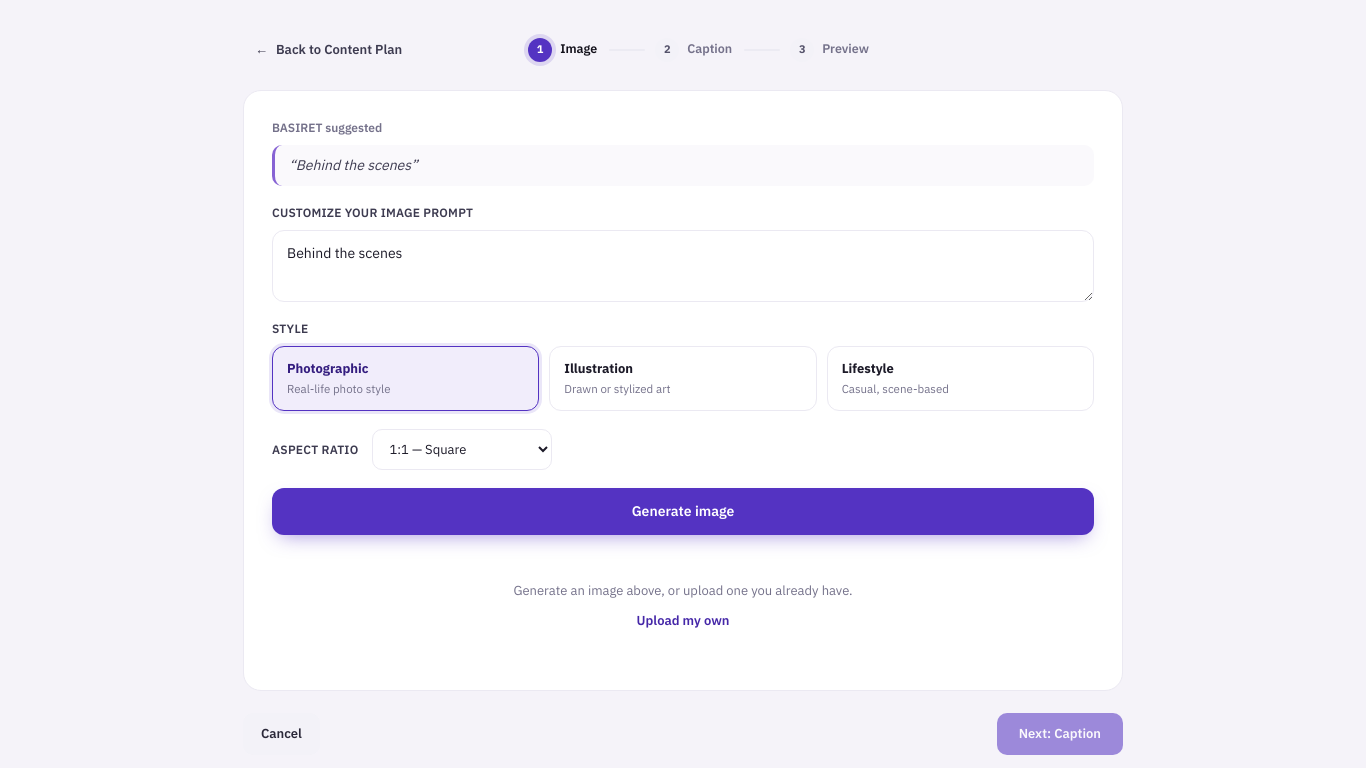
Scenario: WizardCaptionStep — Generate gating › Generate is disabled when no image exists (caption step is unreachable without an image, but the guard hint renders if forced)
Click the button with test id "image-generate" at (683, 512), box [272,488,1094,535]
(page scrolled)
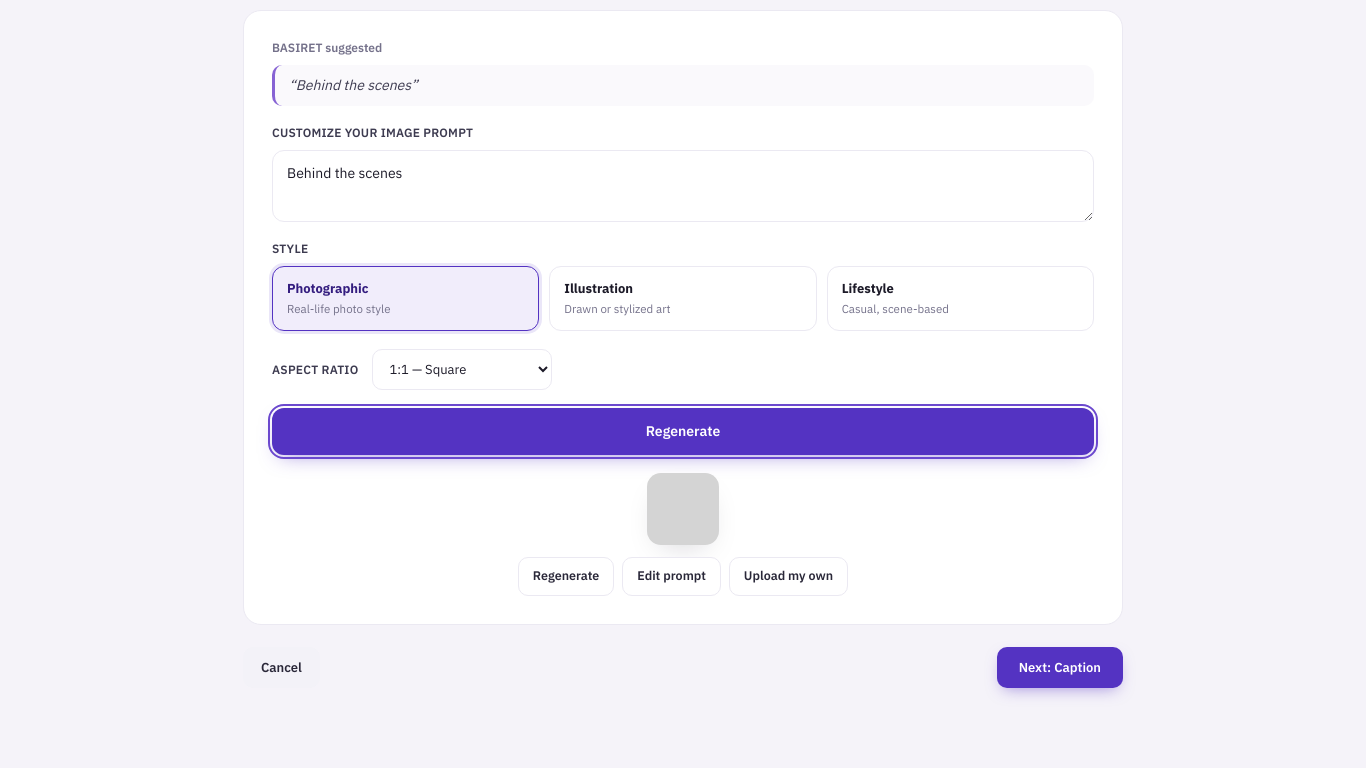
Click the button with test id "wizard-next" at (1060, 668), box [997,647,1123,688]
(page scrolled)
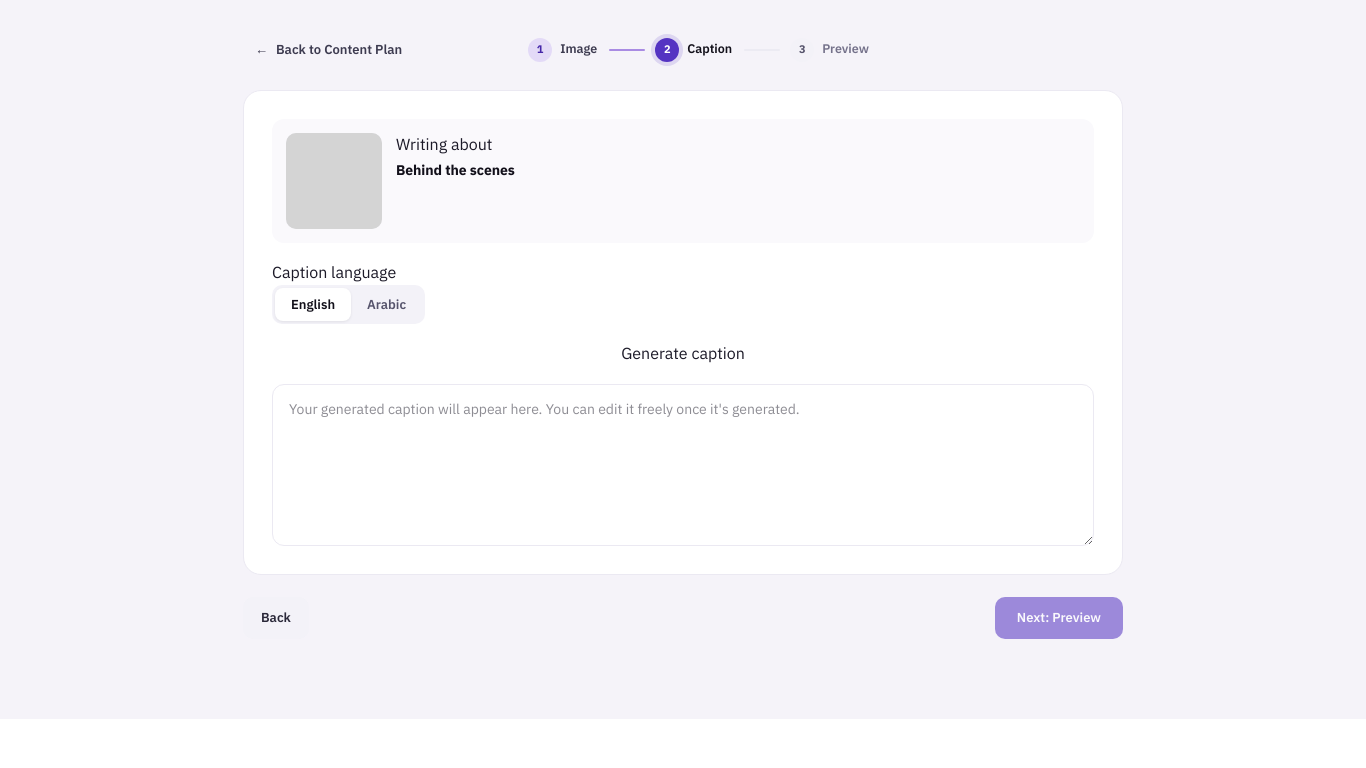
Expected: the button with test id "caption-generate" is enabled, [272,342,1094,366]
